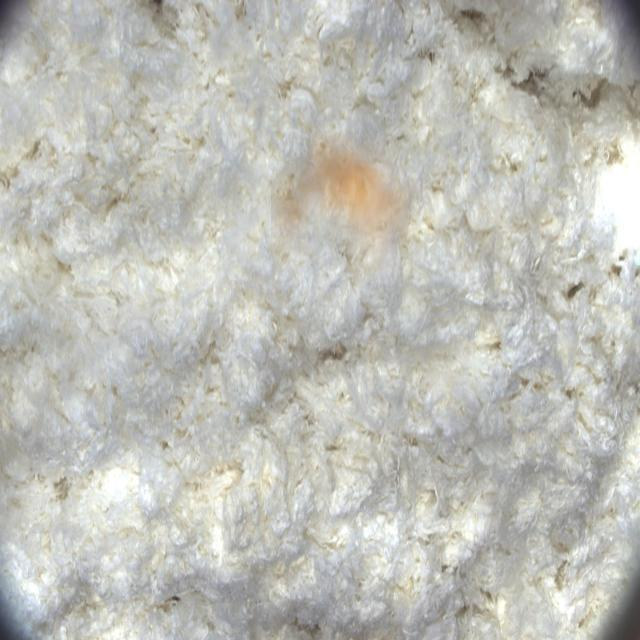dust: (271, 131, 422, 273)
